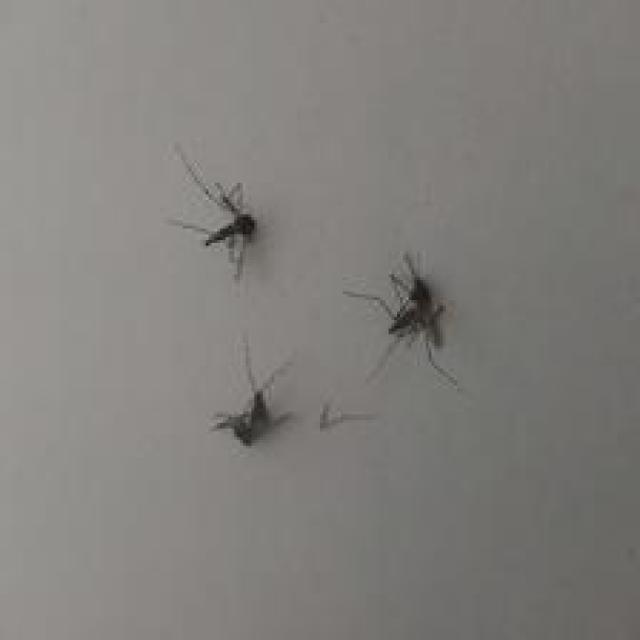Aedes albopictus: (343, 250, 460, 390)
